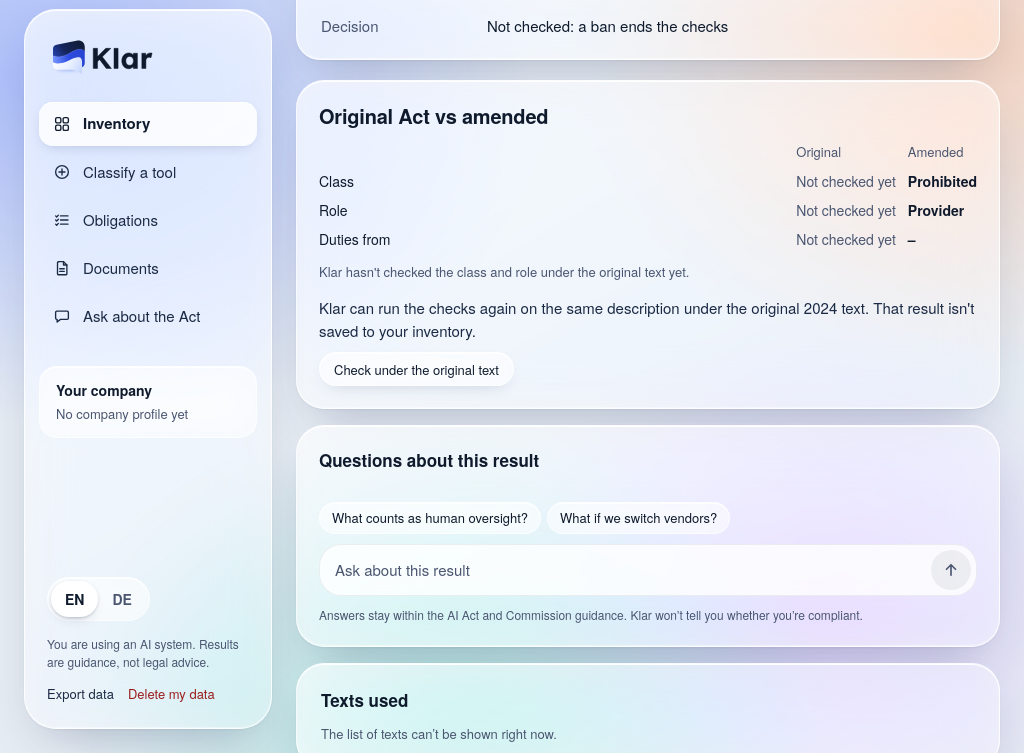
Original Act vs amended (reviewer view) › shows a case whose class differs between the texts: the ban only the Omnibus added
(page scrolled)
Click the button "Check under the original text" at (416, 369), box top-left (319, 352), bottom-right (514, 386)
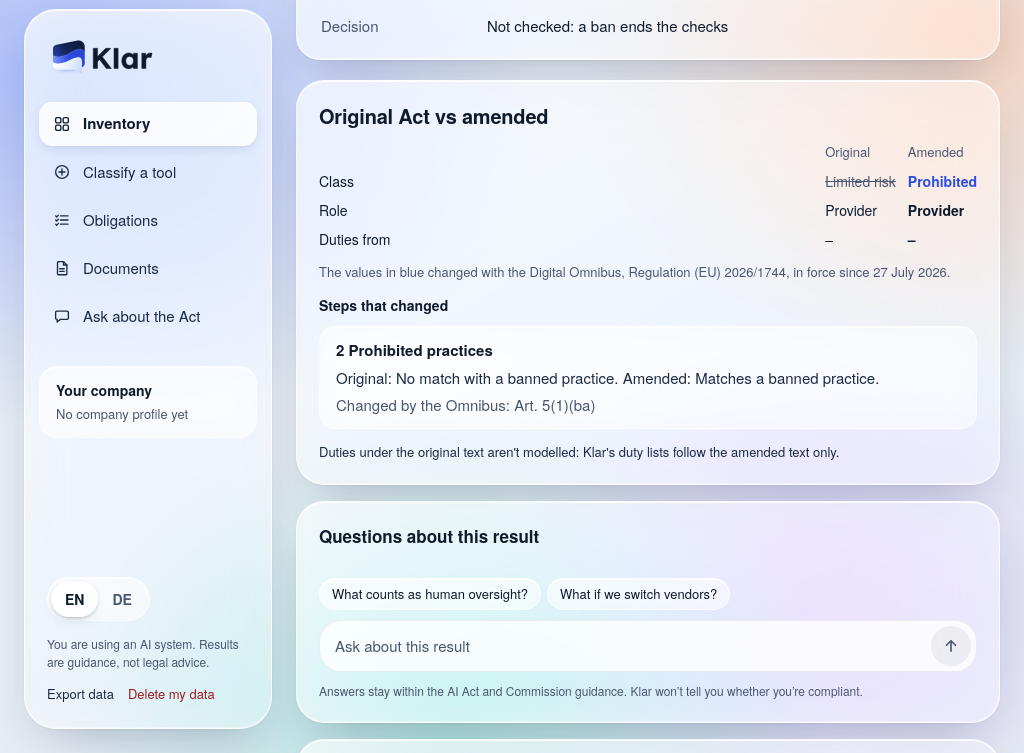
Check: the heading "Steps that changed" is shown, box top-left (319, 295), bottom-right (448, 315)
Check: the list items read "2 Prohibited practicesOriginal: No match with a banned practice. Amended: Matches a banned practice.Changed by the Omnibus: Art. 5(1)(ba)", in this order, box top-left (319, 326), bottom-right (977, 429)
Check: the element "Original Act vs amended" shows "The values in blue changed with the Digital Omnibus, Regulation (EU) 2026/1744, in force since 27 July 2026.", box top-left (319, 262), bottom-right (950, 281)
